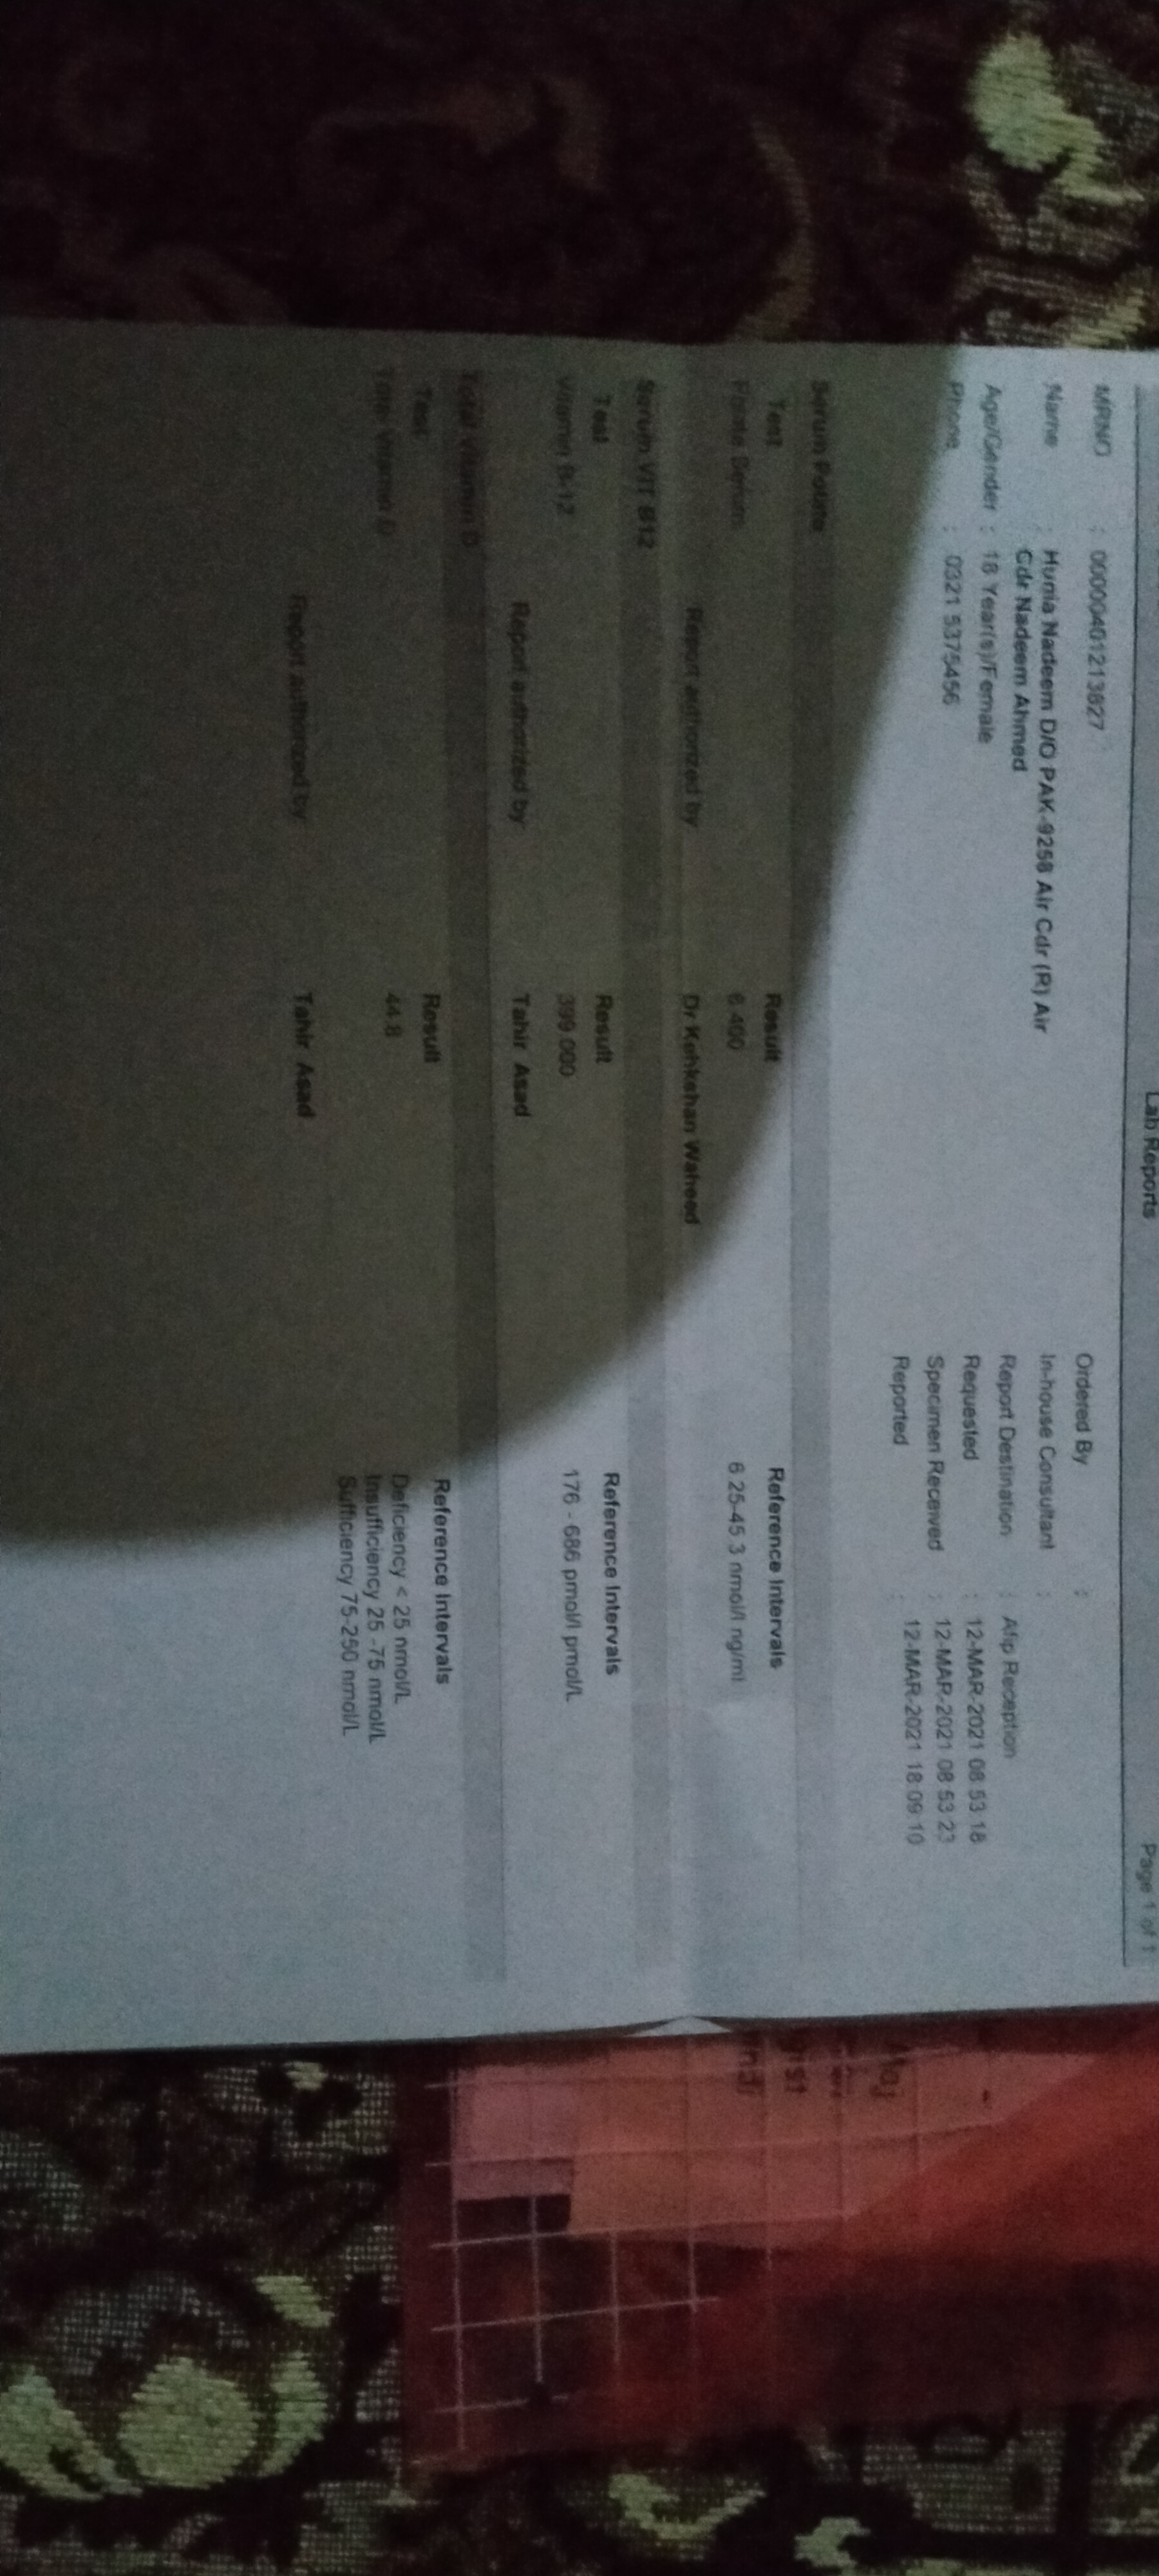report: (253, 348, 832, 2014)
